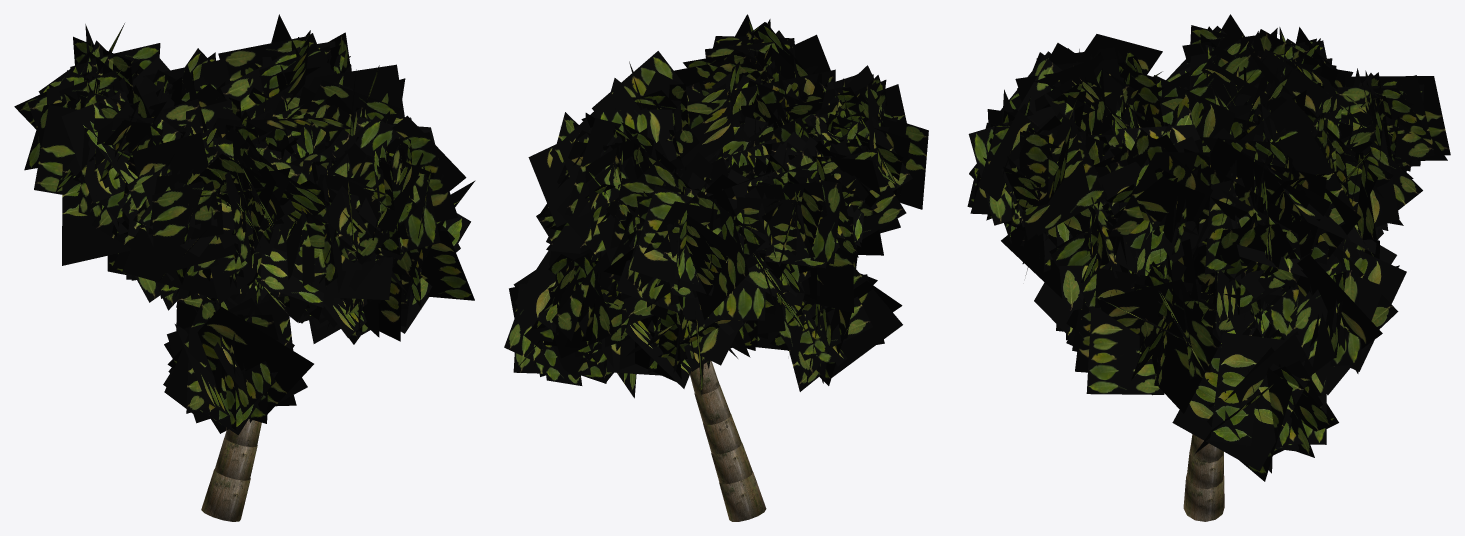
3 views of the same model, side by side, from view 1: azimuth 30°, elevation 25°; view 2: azimuth 150°, elevation 25°; view 3: azimuth 270°, elevation 25° (orthographic). The views are drawn at different scales.
Visible parts, largest first — view 1: plane; view 2: plane; view 3: plane.
Boxes of the visible parts, box(x1,y1,x2,y2) form: plane: box(14, 14, 475, 521); plane: box(504, 14, 928, 521); plane: box(967, 14, 1450, 521).
Size of the model in its own units: 12 by 13.23 by 13.14.
2 materials, 2 textured.
